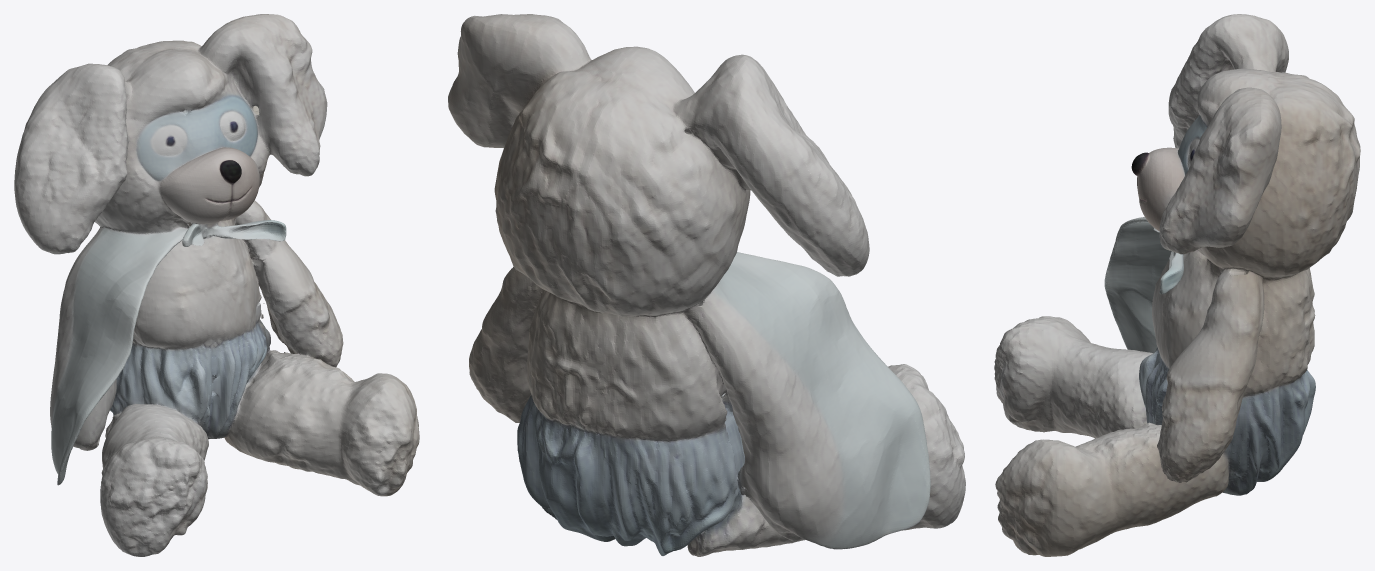
Rendered from output_result.glb.
3 renders of one model, left to right at view 1: azimuth 30°, elevation 25°; view 2: azimuth 150°, elevation 25°; view 3: azimuth 270°, elevation 25°, orthographic. The views are drawn at different scales.
Visible parts, largest first — view 1: world; view 2: world; view 3: world.
Boxes of the visible parts, <box> form: world: <box>14,14,419,556</box>; world: <box>448,14,965,556</box>; world: <box>994,14,1360,556</box>.
Bounding box in the file's own units: 0.8357 × 0.9987 × 0.7614.
